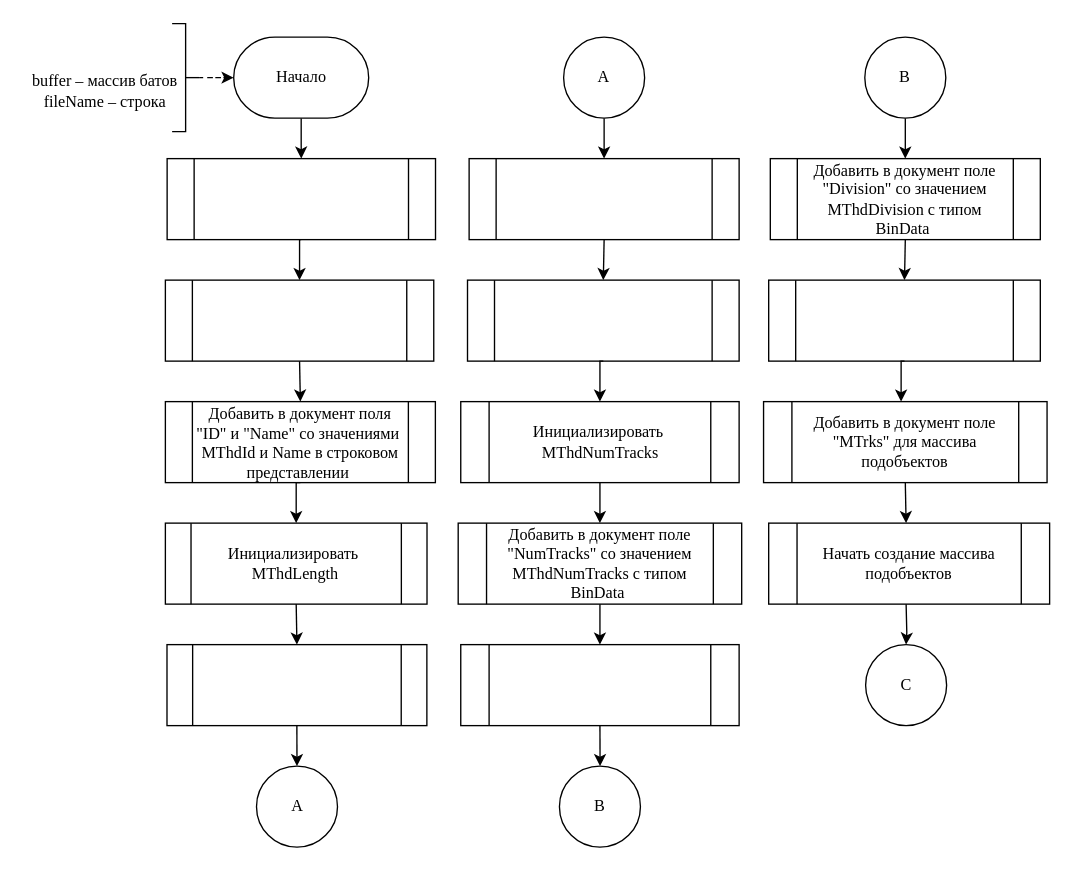
Image size: 1073x871. Some labels were removed from this diagram. The centre of each missing label's shape, as x and y in pixels:
Добавить в документ поле "Format" со значением MThdFormat с типом BinData: (602,320)
Добавить в документ поле "Length" со значением MThdLength с типом BinData: (296,684)
Инициализировать MThdDivision: (599,684)
Инициализировать MThdFormat: (603,198)
Инициализировать MThdId: (299,320)
Начать создание документа: (301,198)
Подсчитать количество дорожек: (903,320)
